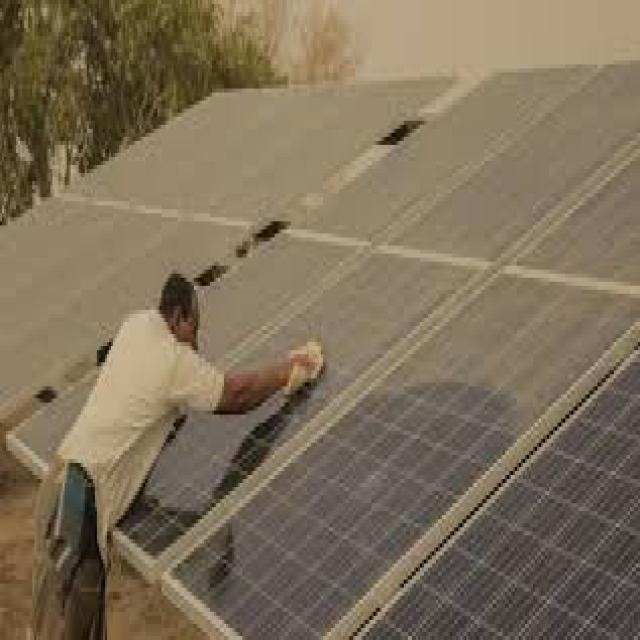dust-solar-panel: (0, 64, 640, 640)
